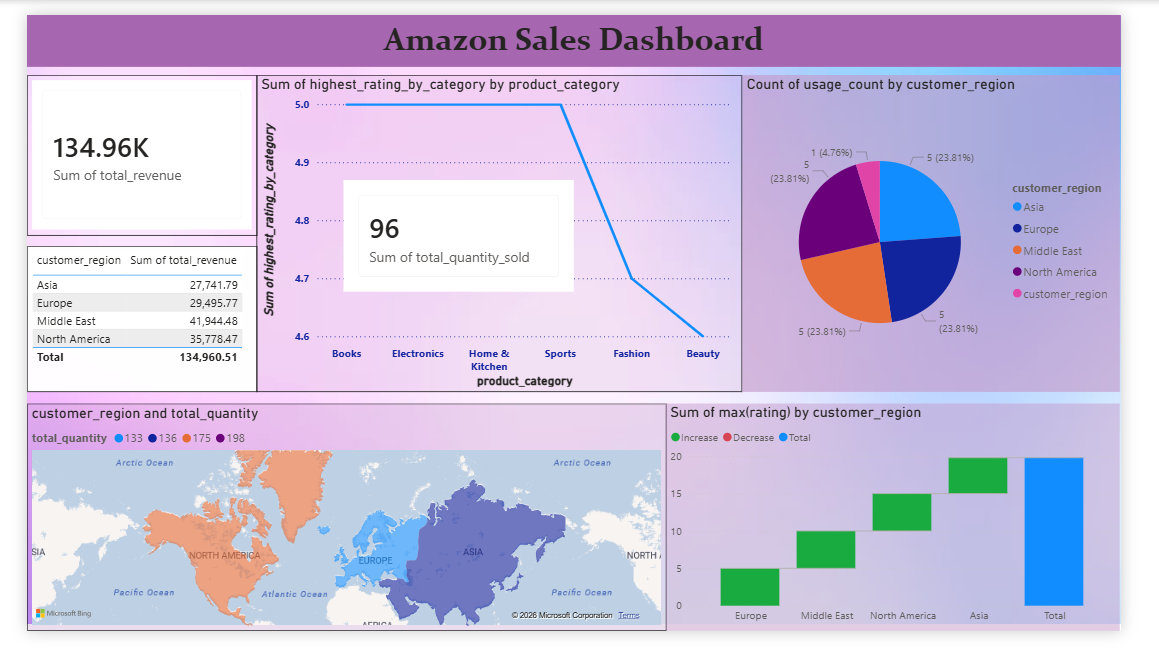

The page's visual inventory and layout, read from the dashboard file:
{"tool":"powerbi","page":{"name":"Page 1","canvas":[1280,720],"ordinal":0},"visuals":[{"type":"tableEx","fields":{"Values":["query4.customer_region","Sum(query4.total_revenue)"]},"box":[0,270.8,269.2,170.8],"z":0},{"type":"lineChart","fields":{"Category":["query1.product_category"],"Y":["Sum(query1.highest_rating_by_category)"]},"box":[269.2,70.8,567.7,370.8],"z":1},{"type":"filledMap","fields":{"Category":["query2.customer_region"],"Series":["query2.total_quantity"]},"box":[0,453.8,747.7,266.2],"z":2},{"type":"textbox","box":[0,0,1279.3,60.3],"z":3},{"type":"cardVisual","fields":{"Data":["Sum(query4.total_revenue)"]},"box":[0,70.8,269.2,187.7],"z":4},{"type":"pieChart","fields":{"Category":["query8.Column1"],"Y":["CountNonNull(query8.Column2)"]},"box":[836.9,70.8,441.5,370.8],"z":5},{"type":"waterfallChart","fields":{"Category":["queryten.customer_region"],"Y":["Sum(queryten.max(rating))"]},"box":[747.7,453.8,530.8,266.2],"z":6},{"type":"cardVisual","fields":{"Data":["Sum(query7.total_quantity_sold)"]},"box":[370.8,192.3,269.2,130.8],"z":7}]}

Visuals, with their boxes in screenshot pixels (x1, y1, x2, y2), scaled from the page's 1280x720 canvas onto the 1159x648 screenshot:
tableEx - query4.customer_region x Sum(query4.total_revenue): 0/244/244/397
lineChart - query1.product_category x Sum(query1.highest_rating_by_category): 244/64/758/397
filledMap - query2.customer_region x query2.total_quantity: 0/408/677/647
textbox: 0/0/1158/54
cardVisual - Sum(query4.total_revenue): 0/64/244/233
pieChart - query8.Column1 x CountNonNull(query8.Column2): 758/64/1158/397
waterfallChart - queryten.customer_region x Sum(queryten.max(rating)): 677/408/1158/647
cardVisual - Sum(query7.total_quantity_sold): 336/173/580/291
